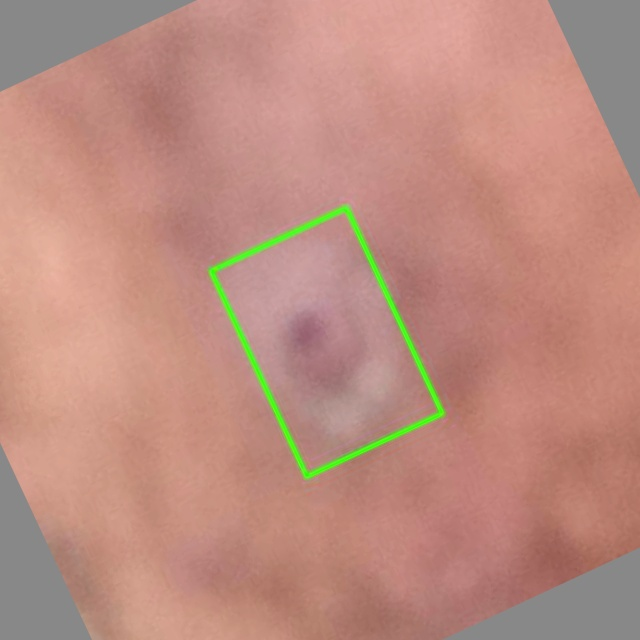Eczema: (210, 207, 442, 476)
